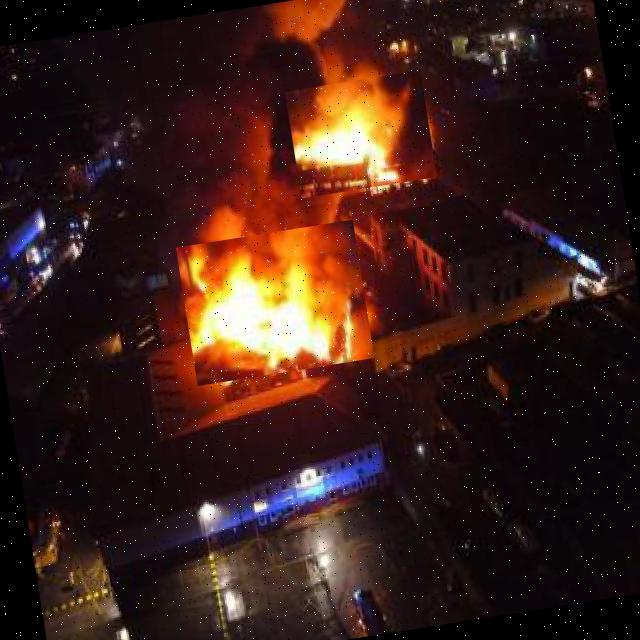fire: (176, 220, 375, 386), (285, 70, 437, 198)
